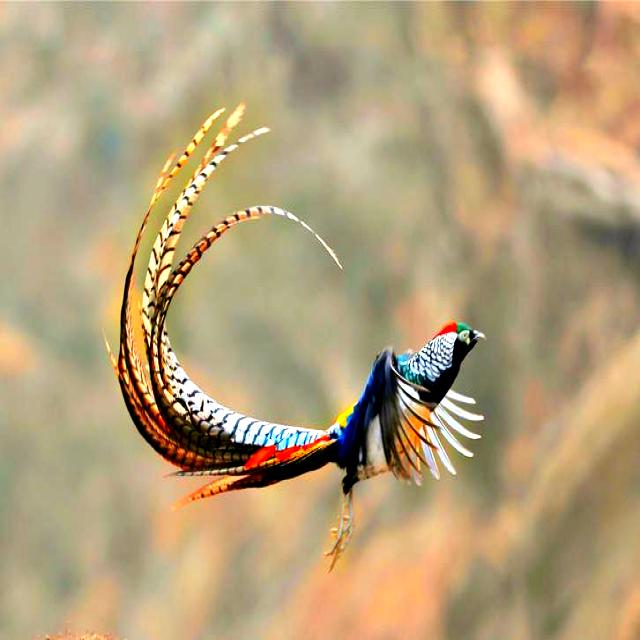Chrysolophus amherstiae: (115, 164, 352, 486)
